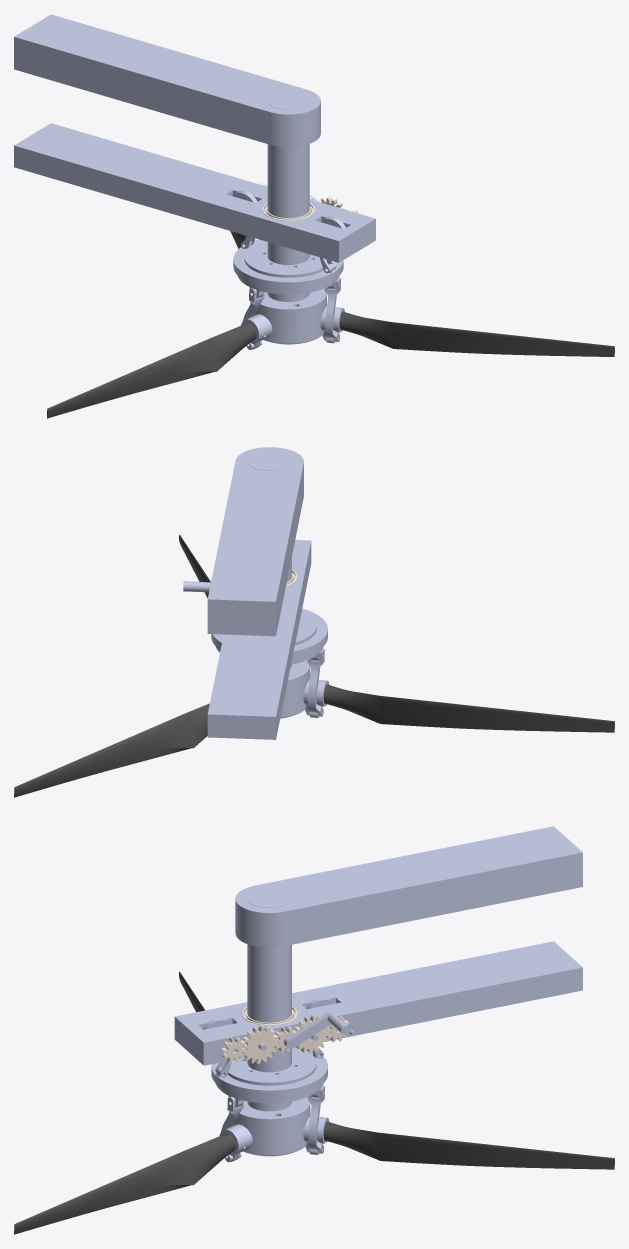
The model's file is GLBassem2.glb.
The picture shows the model from 3 angles, top to bottom: view 1: azimuth 30°, elevation 25°; view 2: azimuth 150°, elevation 25°; view 3: azimuth 270°, elevation 25°; orthographic projection. The views are drawn at different scales.
Parts seen in each view (by area): view 1: Support Beam-1, Support Beam Bearing-1, wind turbine blade-2, wind turbine blade-3, Shaft 35mm-1, Hub-Bottom-1, Thrust Bearing Inner Hollow-1, Thrust Bearing Outer Top Above-1, Hub-Top-1, Blade Linkage-3, Thrust Bearing Outer Top Below-1; view 2: Support Beam-1, Support Beam Bearing-1, wind turbine blade-3, wind turbine blade-1, Thrust Bearing Inner Hollow-1, Hub-Bottom-1, Shaft 35mm-1, Blade Linkage-2, Thrust Bearing Outer Top Above-1; view 3: Support Beam-1, Support Beam Bearing-1, wind turbine blade-1, wind turbine blade-2, Shaft 35mm-1, Hub-Bottom-1, Thrust Bearing Inner Hollow-1, Thrust Bearing Outer Top Above-1, spur gear_am-8, Linear Handle-3, Hub-Top-1, Blade Linkage-1 (+3 smaller).
Boxes of the visible parts, box(x1,y1,x2,y2) form: Support Beam-1: box(14, 14, 320, 147); Support Beam Bearing-1: box(14, 123, 375, 262); wind turbine blade-2: box(339, 311, 614, 356); wind turbine blade-3: box(47, 323, 256, 418); Shaft 35mm-1: box(267, 92, 309, 301); Hub-Bottom-1: box(250, 288, 326, 331); Thrust Bearing Inner Hollow-1: box(233, 239, 343, 289); Thrust Bearing Outer Top Above-1: box(244, 240, 326, 277); Hub-Top-1: box(263, 324, 323, 344); Blade Linkage-3: box(322, 278, 340, 341); Thrust Bearing Outer Top Below-1: box(237, 275, 339, 298); Support Beam-1: box(207, 447, 303, 636); Support Beam Bearing-1: box(207, 540, 311, 739); wind turbine blade-3: box(323, 684, 614, 732); wind turbine blade-1: box(14, 703, 209, 797); Thrust Bearing Inner Hollow-1: box(211, 608, 327, 659); Hub-Bottom-1: box(283, 660, 310, 704); Shaft 35mm-1: box(247, 452, 291, 667); Blade Linkage-2: box(305, 649, 324, 716); Thrust Bearing Outer Top Above-1: box(295, 611, 316, 645); Support Beam-1: box(235, 826, 582, 947); Support Beam Bearing-1: box(174, 941, 582, 1065); wind turbine blade-1: box(323, 1121, 614, 1169); wind turbine blade-2: box(14, 1133, 235, 1234); Shaft 35mm-1: box(247, 889, 291, 1111); Hub-Bottom-1: box(233, 1097, 310, 1142); Thrust Bearing Inner Hollow-1: box(211, 1051, 327, 1098); Thrust Bearing Outer Top Above-1: box(227, 1047, 316, 1085); spur gear_am-8: box(242, 1025, 278, 1064); Linear Handle-3: box(284, 1011, 350, 1049); Hub-Top-1: box(243, 1135, 306, 1156); Blade Linkage-1: box(305, 1086, 324, 1153).
Size of the model in its own units: 0.4715 by 0.22 by 0.4734.
